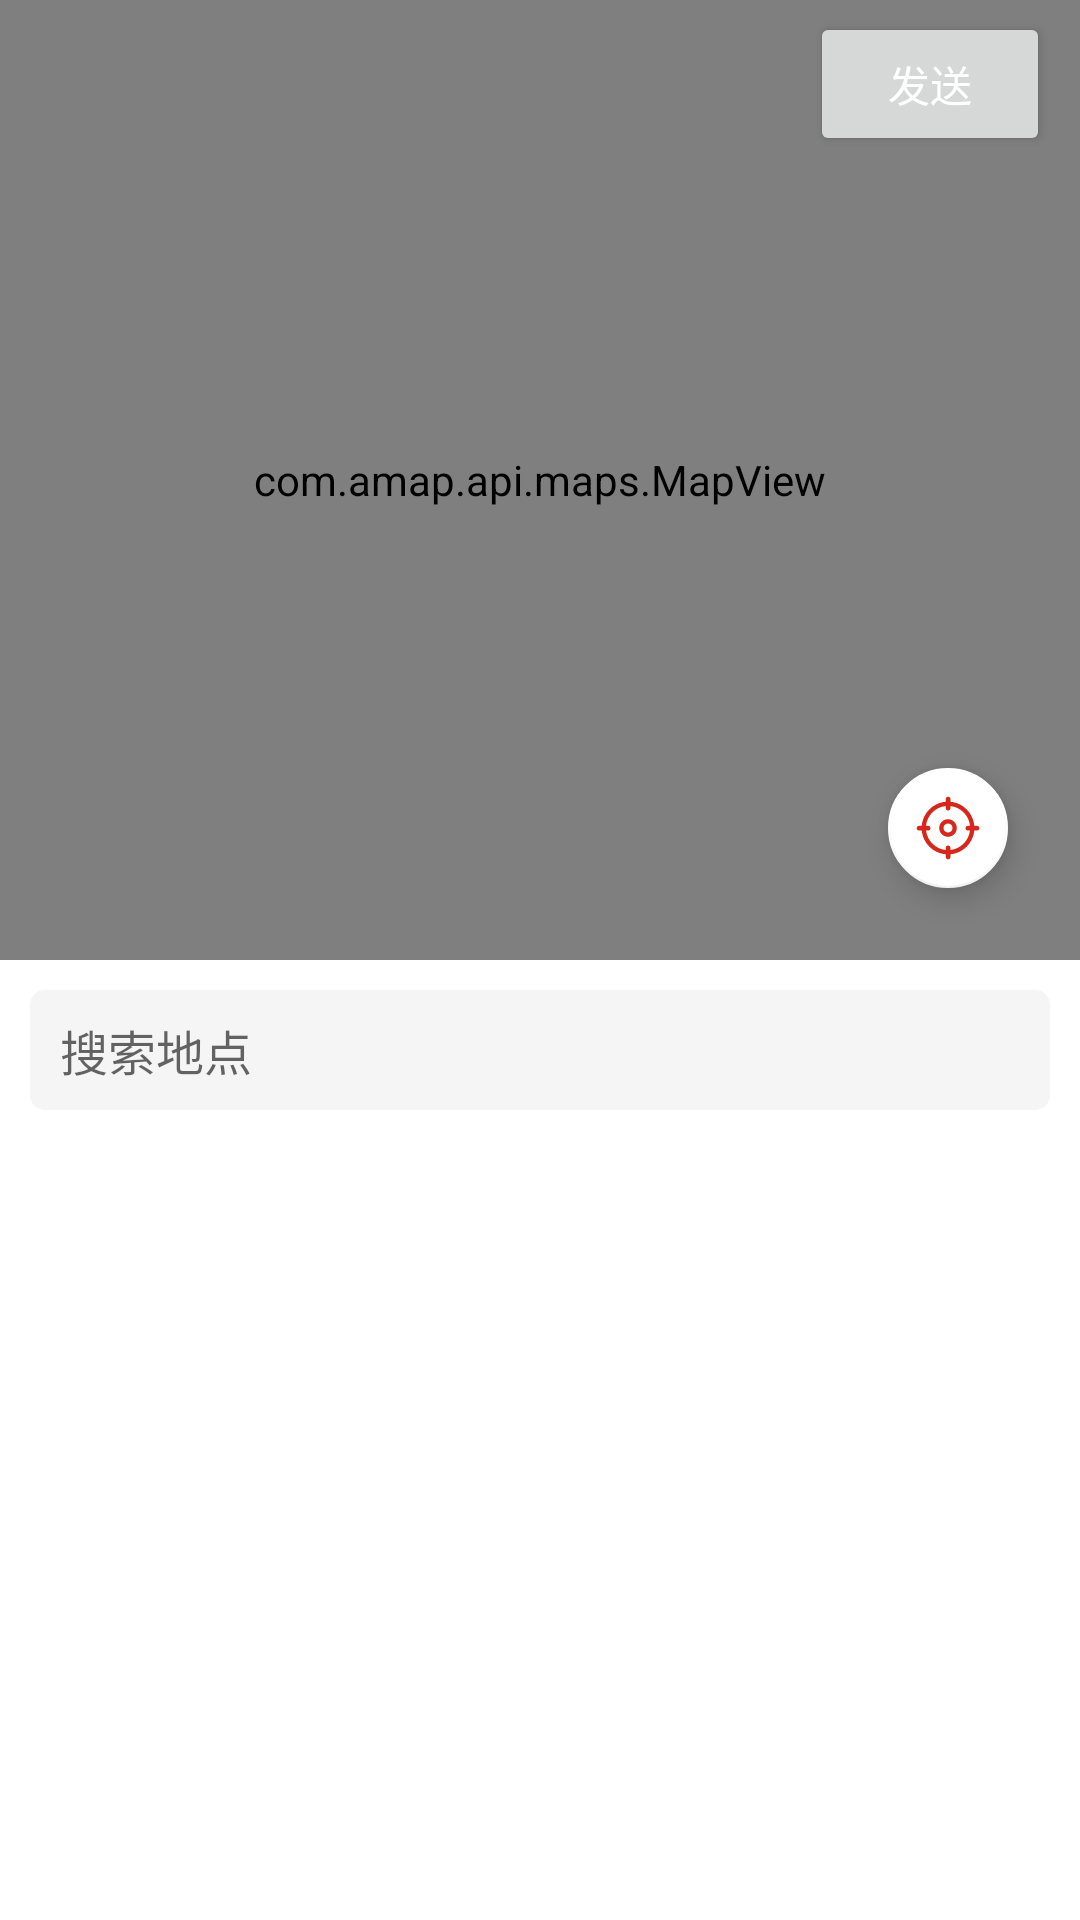

Icon click points for this 1080×1920 phone screenshot, format point (x, y):
position location: point (948, 828)
